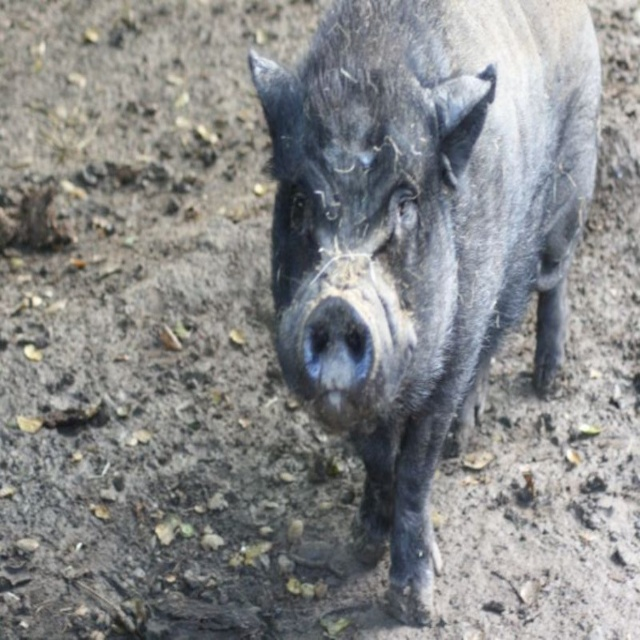Pig: (249, 0, 602, 627)
